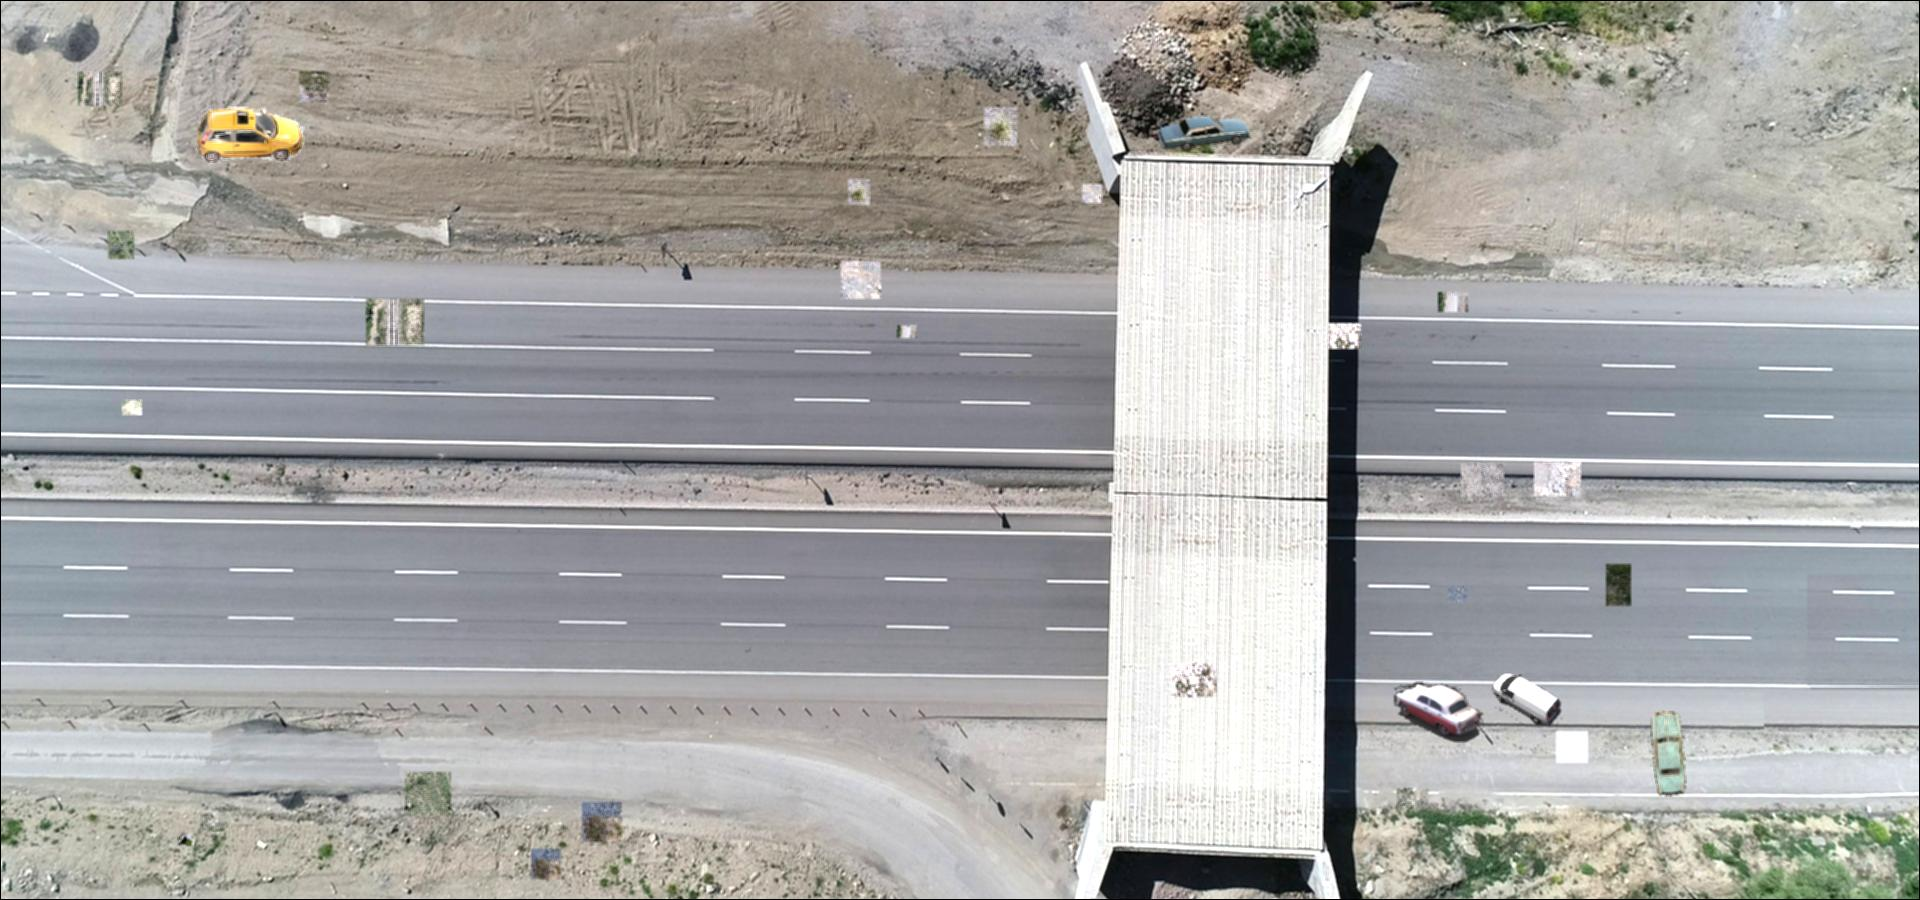arac: (198, 107, 304, 164), (1393, 681, 1487, 743), (1491, 671, 1562, 726), (1651, 709, 1691, 800), (1156, 115, 1254, 152)
